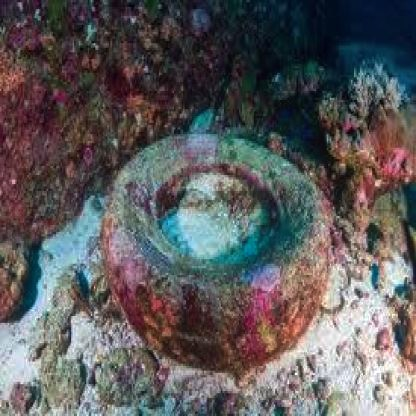tire: (97, 111, 354, 380)
